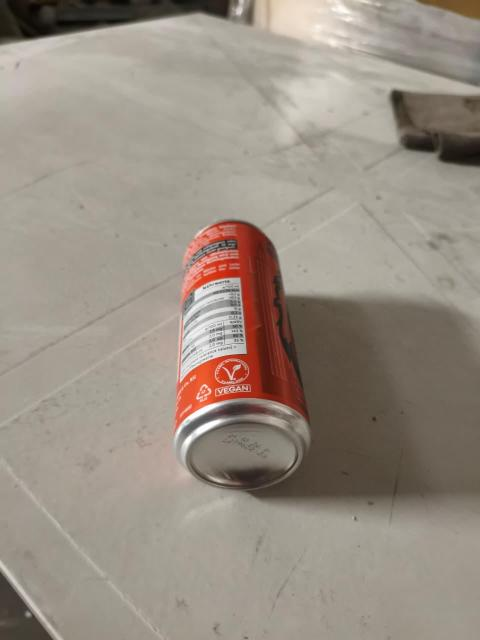Metal: (177, 222, 312, 478)
